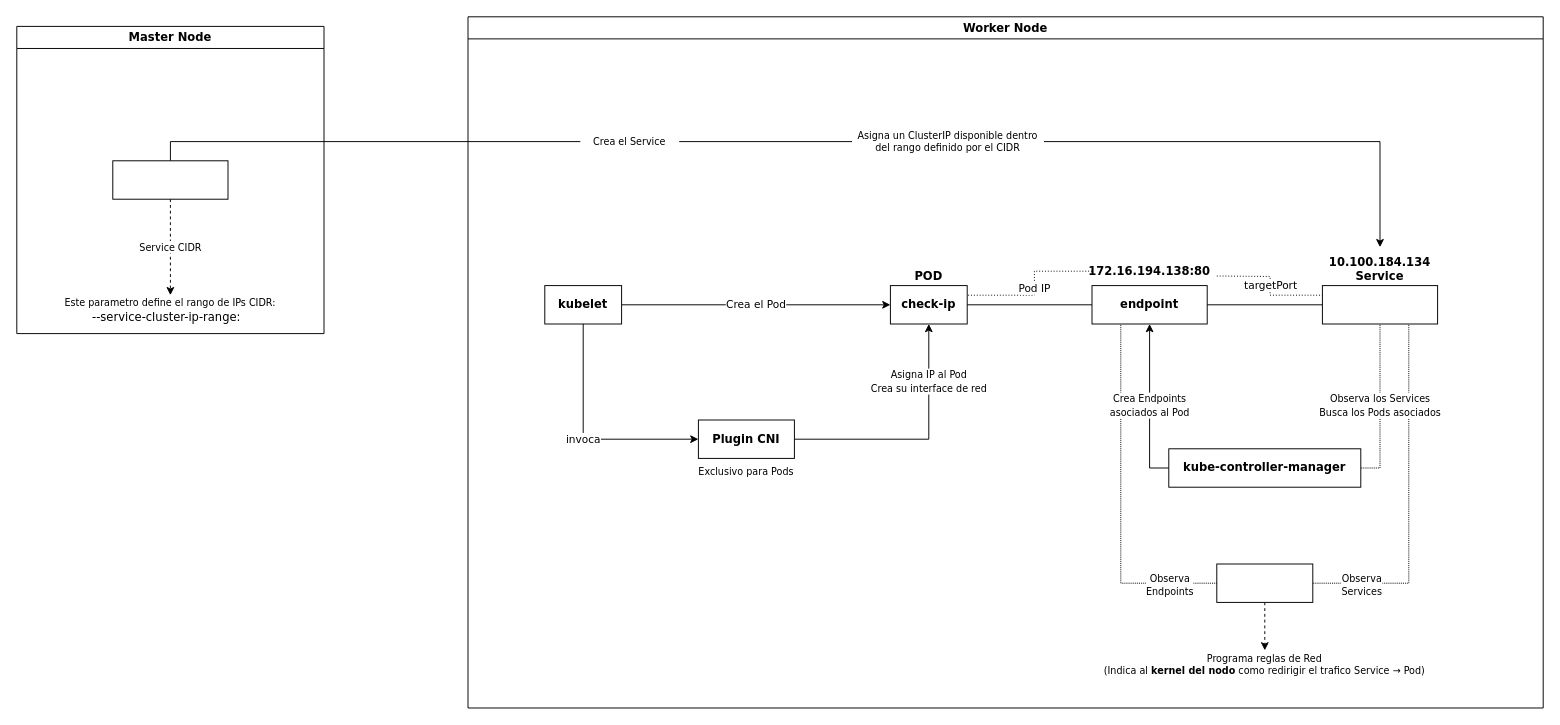
This 1560x725 diagram has some shape labels left out. Each missing label, with the centre of its shape:
"check-ip-service" belongs at (x=1379, y=304).
"kube-apiserver" belongs at (x=170, y=179).
"kube-proxy" belongs at (x=1264, y=582).
